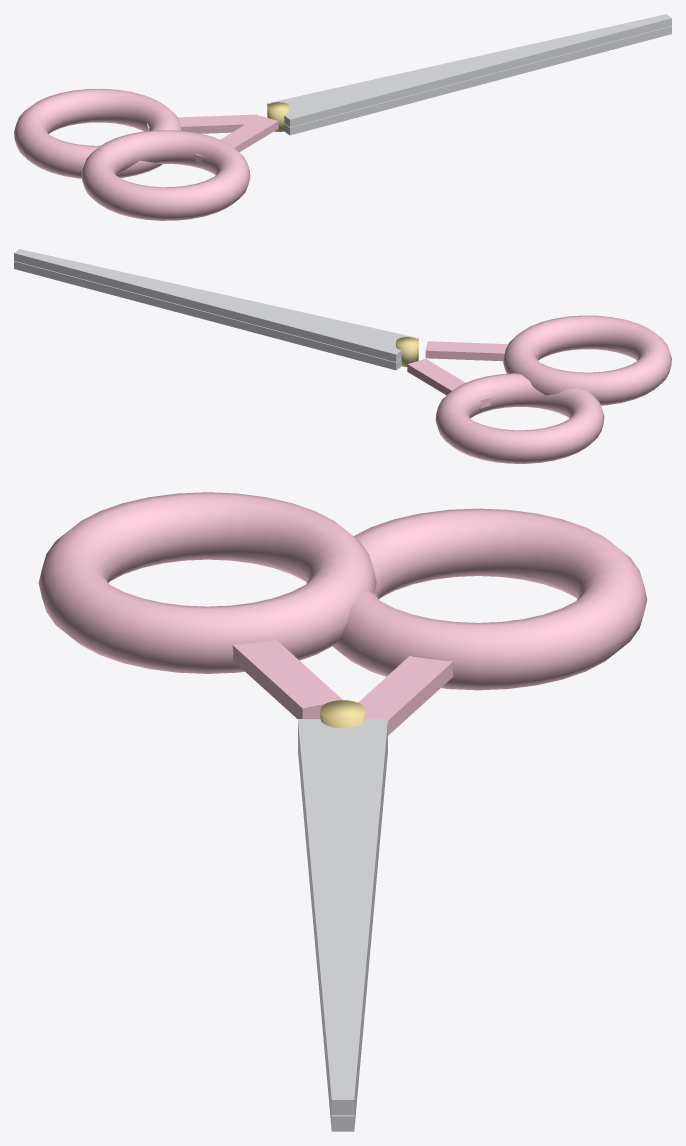
Rendered from scissors.glb.
3 renders of one model, top to bottom at view 1: azimuth 30°, elevation 25°; view 2: azimuth 150°, elevation 25°; view 3: azimuth 270°, elevation 25°, orthographic. The views are drawn at different scales.
Visible parts, largest first — view 1: sc_loop_b, sc_blade_b, sc_loop_a, sc_blade_a, sc_arm_a, sc_arm_b, sc_screw; view 2: sc_loop_a, sc_loop_b, sc_blade_b, sc_blade_a, sc_arm_b, sc_arm_a, sc_screw; view 3: sc_loop_b, sc_loop_a, sc_blade_b, sc_arm_b, sc_arm_a, sc_blade_a, sc_screw.
Part boxes in pixels (x1,y1,x2,y2): sc_loop_b: [81, 130, 250, 220]; sc_blade_b: [267, 14, 671, 127]; sc_loop_a: [14, 89, 182, 178]; sc_blade_a: [284, 26, 671, 135]; sc_arm_a: [147, 114, 258, 133]; sc_arm_b: [195, 115, 278, 165]; sc_screw: [267, 102, 289, 131]; sc_loop_a: [435, 373, 604, 463]; sc_loop_b: [503, 315, 671, 405]; sc_blade_b: [14, 249, 418, 361]; sc_blade_a: [14, 261, 401, 370]; sc_arm_b: [425, 341, 538, 361]; sc_arm_a: [407, 359, 490, 408]; sc_screw: [396, 337, 418, 366]; sc_loop_b: [38, 492, 376, 673]; sc_loop_a: [332, 508, 647, 690]; sc_blade_b: [298, 719, 387, 1115]; sc_arm_b: [232, 639, 342, 718]; sc_arm_a: [358, 656, 453, 735]; sc_blade_a: [298, 737, 387, 1131]; sc_screw: [320, 700, 365, 728].
Bounding box in the file's own units: 0.125 × 0.0076 × 0.054.
